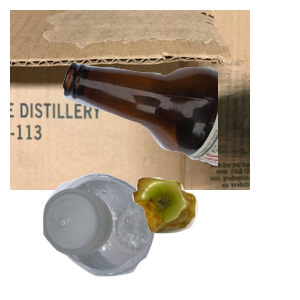cardboard: (10, 10, 250, 190)
glass: (60, 59, 300, 217)
plastic: (40, 170, 187, 300)
trash: (130, 175, 300, 300)
